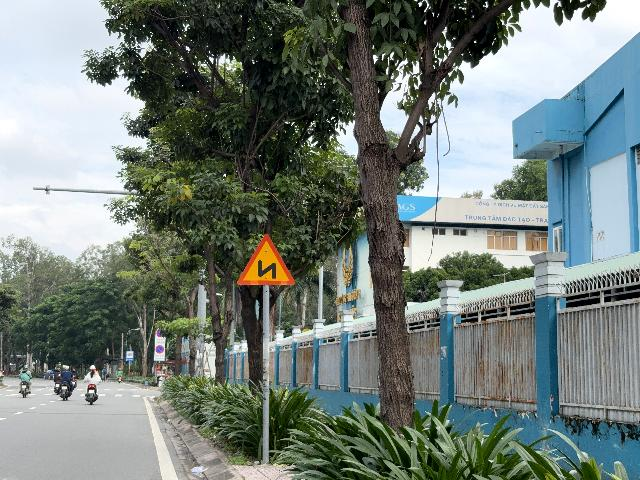nhieu-cho-ngoat-nguy-hiem-lien-tiep: (237, 234, 295, 285)
